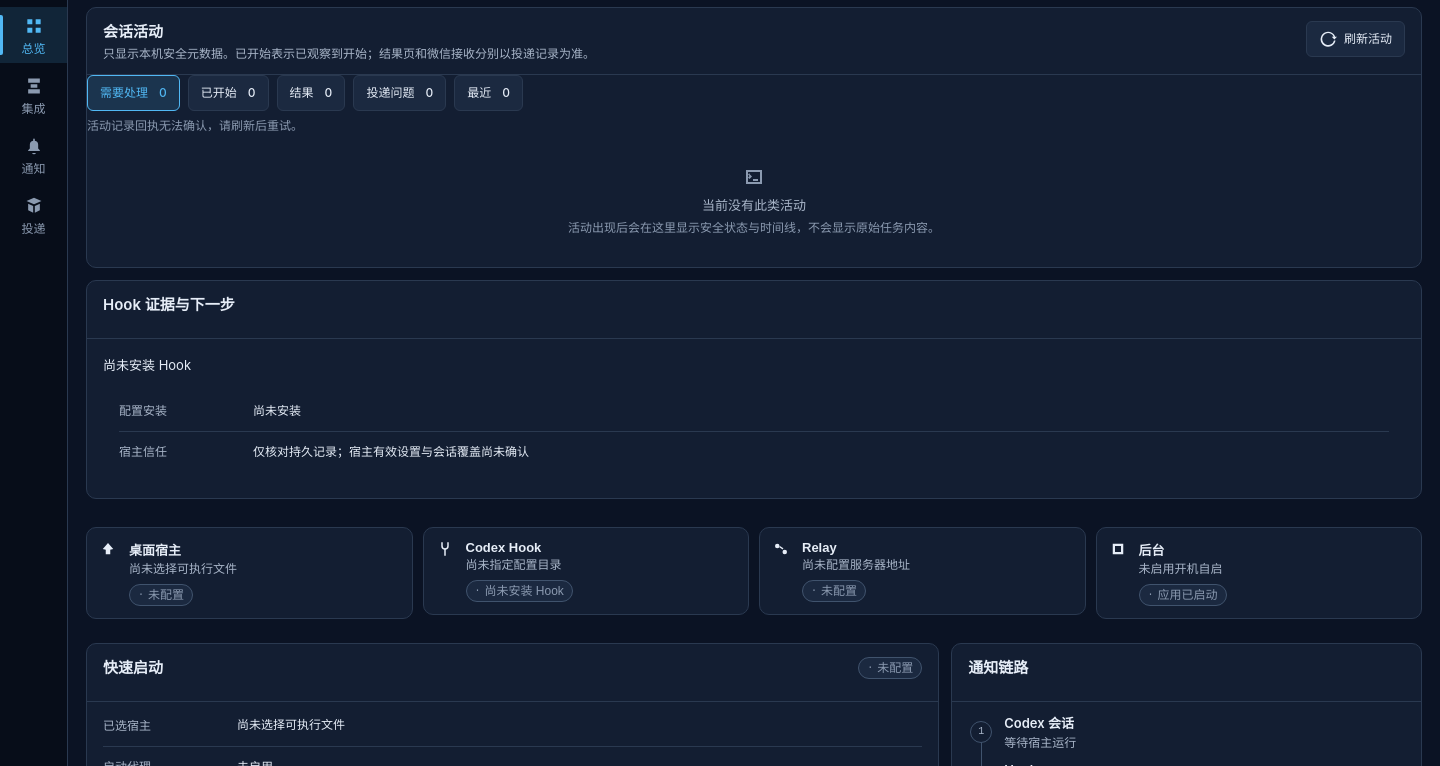
Test: desktop settings UI (mocked command boundary) › reports command failure without claiming success
The width and height of the screenshot is (1440, 766).
Click the button with aria-label "通知（Relay 与通知）".
click(34, 155)  # box [0, 127, 67, 183]
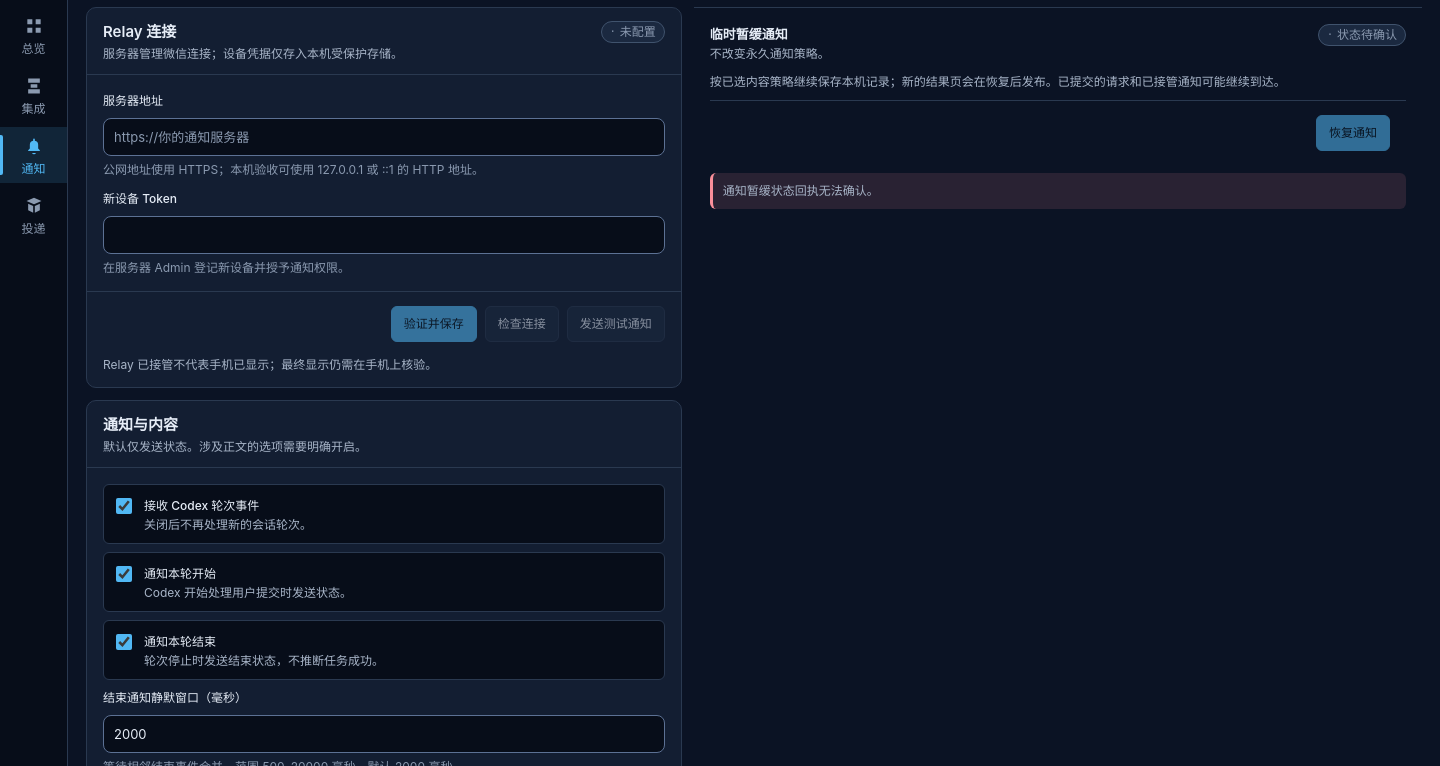
Click the checkbox labelled "通知本轮开始 Codex 开始处理用户提交时发送状态。".
click(124, 574)  # box [116, 566, 132, 582]
(page scrolled)
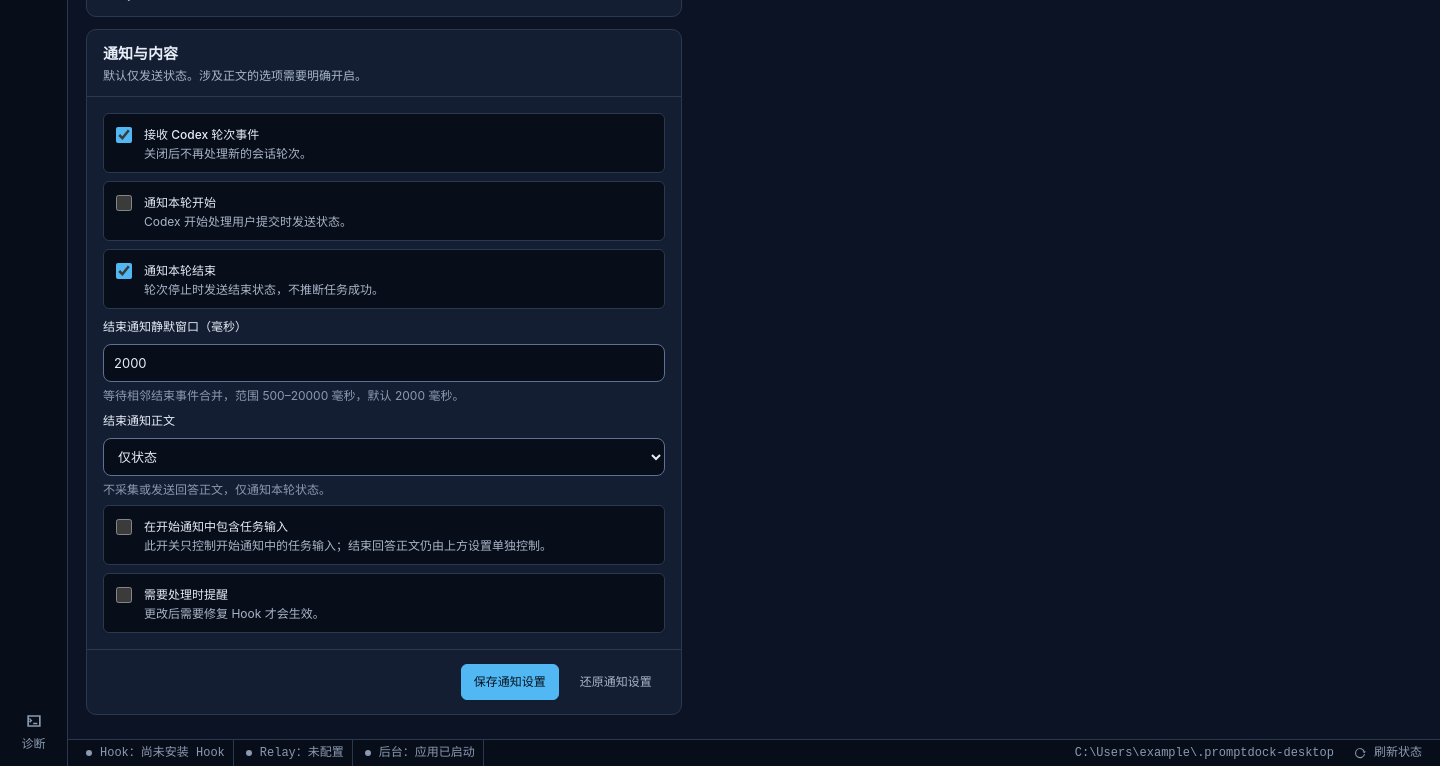
Click the button "保存通知设置".
click(510, 682)  # box [461, 664, 559, 700]
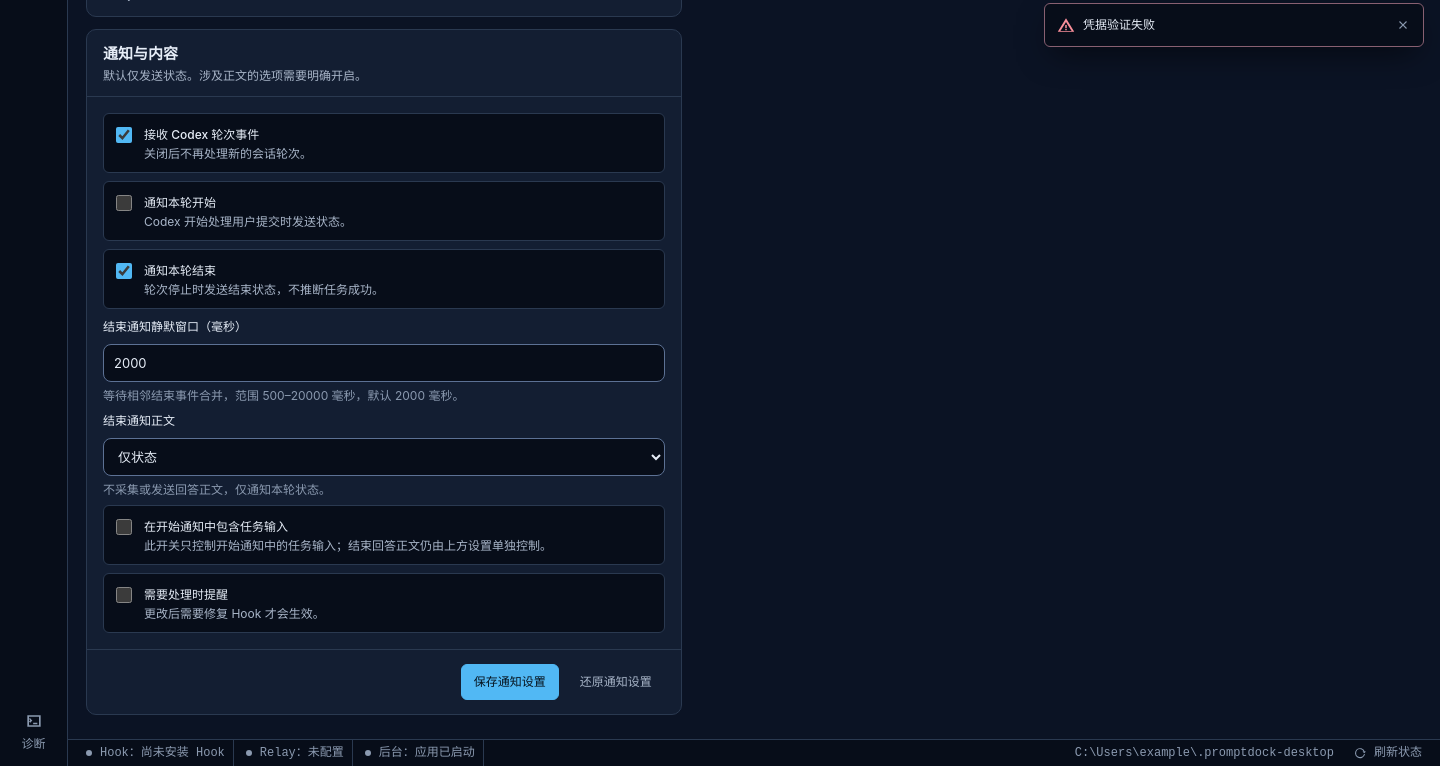
Expected: the message with class "toast-region" reads "凭据验证失败", [1083, 17, 1155, 32]
